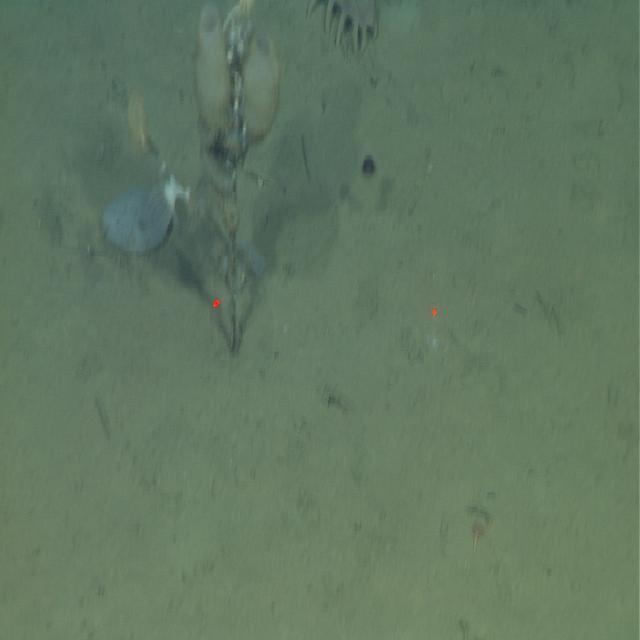Brittle Star: (457, 511, 508, 571)
Not Brittle Star: (94, 186, 177, 272), (191, 1, 234, 150), (238, 29, 284, 144), (305, 1, 378, 55), (361, 153, 375, 180)
